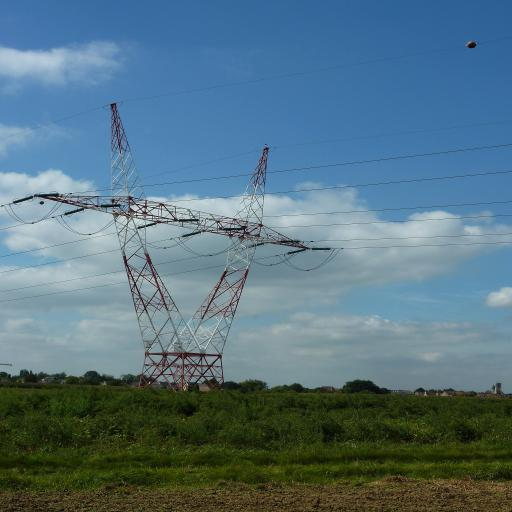wt_5: (48, 103, 310, 387)
